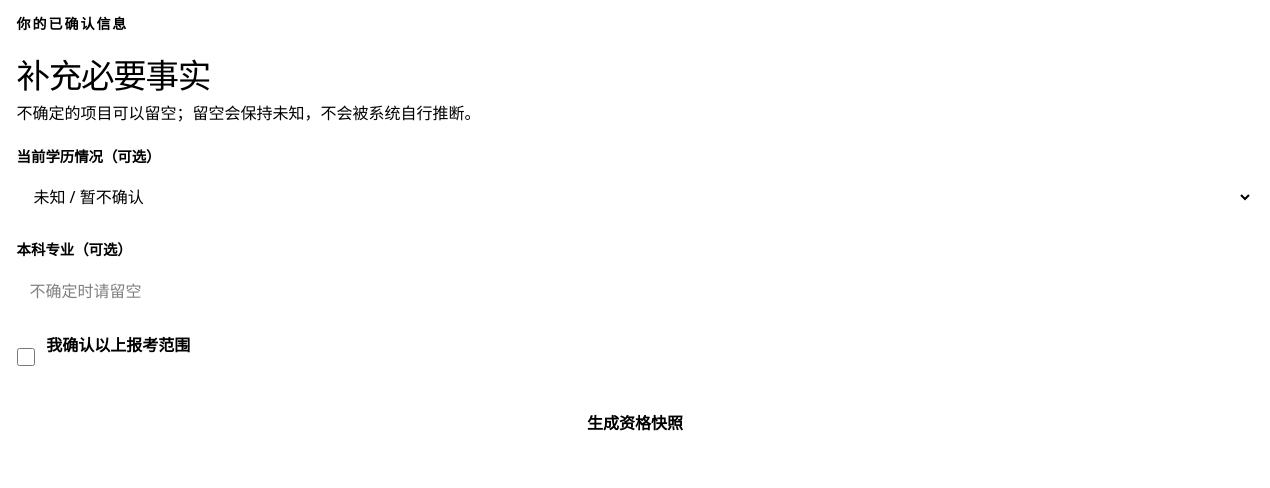
Test case: fact form › requires an explicit scope confirmation before sending data
Click the button "生成资格快照" at [635, 423], box [17, 398, 1253, 447]
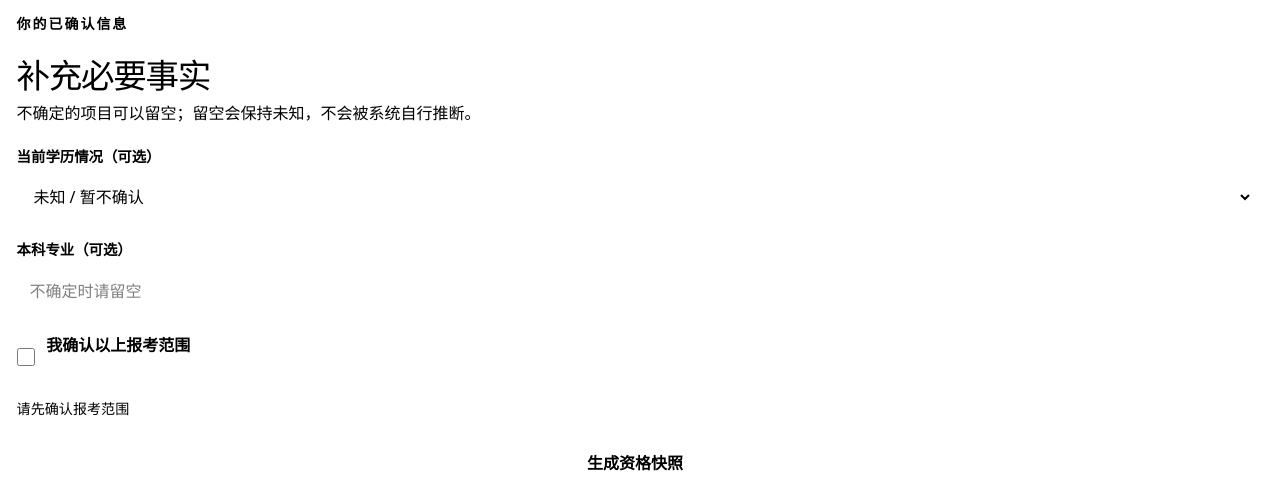
Now the text "请先确认报考范围" is shown, box [17, 399, 129, 418]
